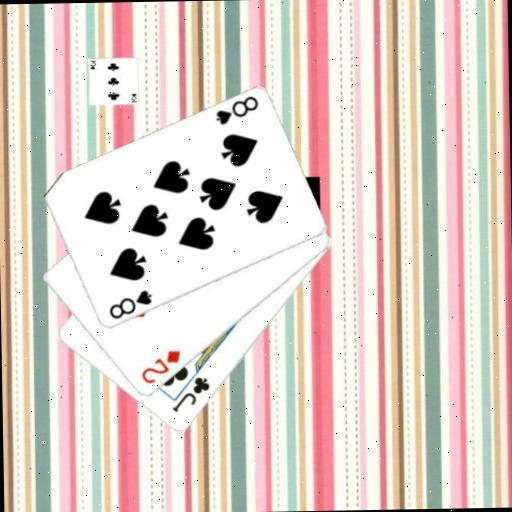2D: (137, 347, 183, 386)
8S: (105, 287, 154, 321), (212, 94, 260, 128)
JC: (169, 374, 212, 415)
